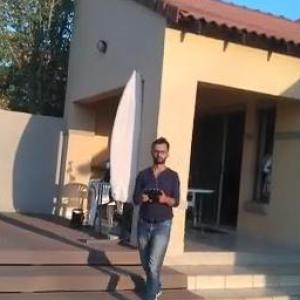follow: (125, 132, 184, 299)
